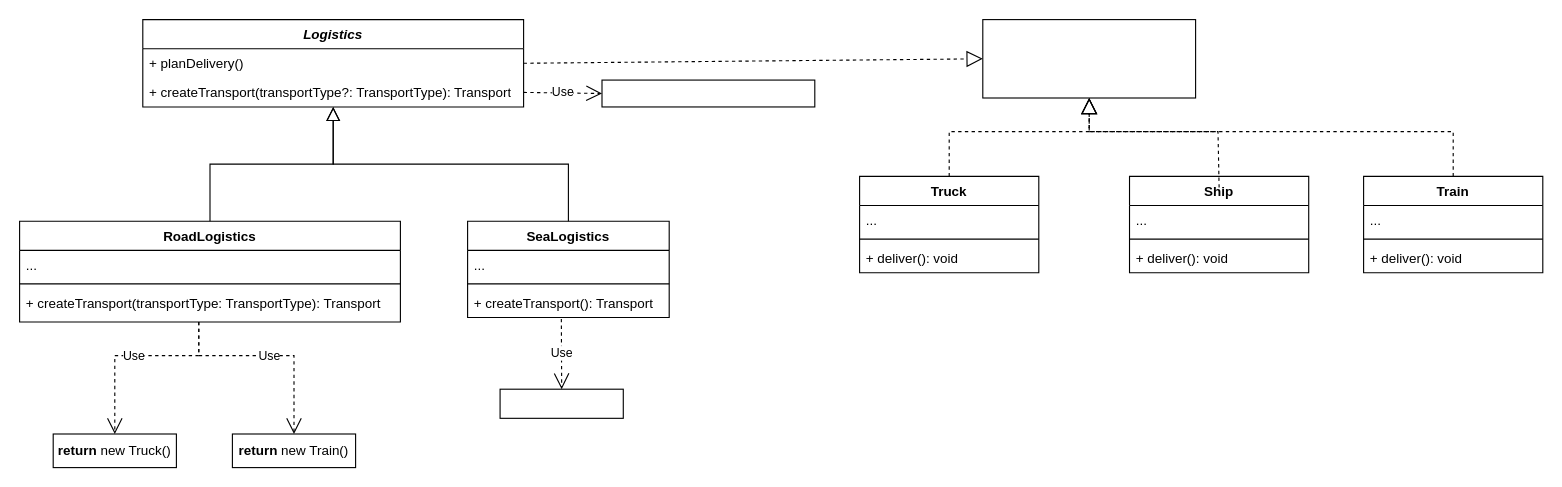
This 1562x487 diagram has some shape labels left out. Here are the shapes that lost their labels. From the top down, the centre of each, then its label:
pixel 1089 58: <<Interface>> Transport + deliver(): void
pixel 708 93: t: Transport = createTranspot()
pixel 561 403: return new Ship()
